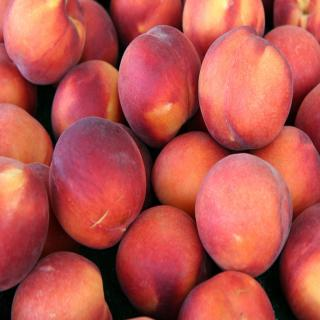Apple: (1, 0, 320, 320), (195, 152, 293, 277)
Peach: (0, 0, 320, 320), (0, 0, 320, 320), (197, 29, 293, 152)
